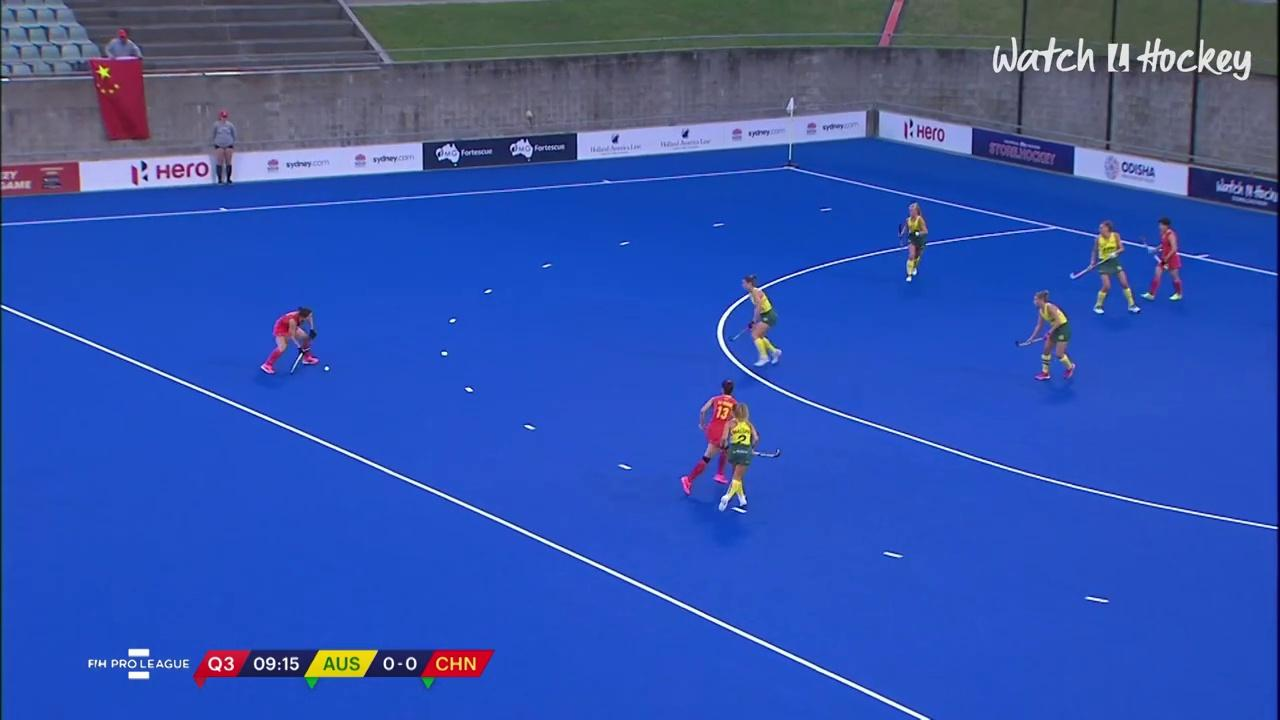ball: (319, 356, 336, 379)
